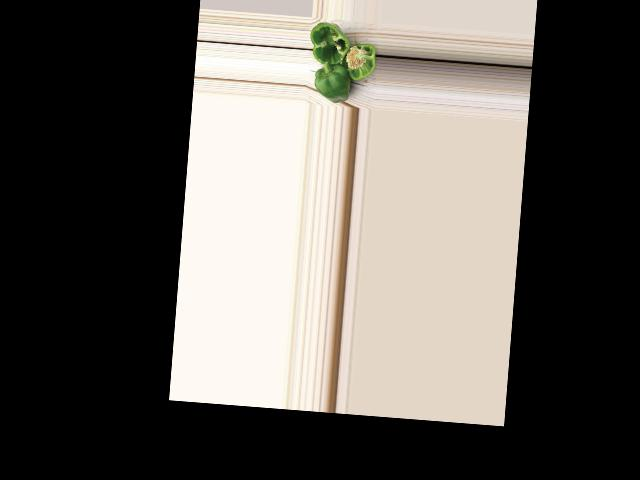bell_pepper: (341, 34, 377, 84)
